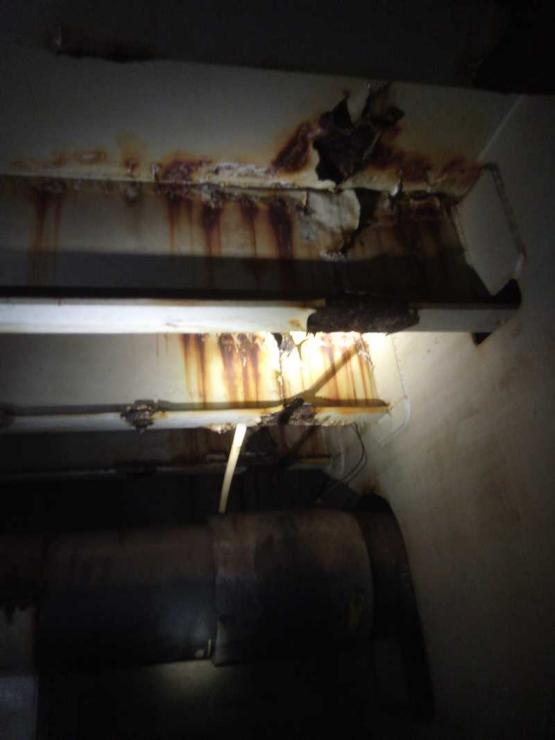corrosion: (265, 78, 444, 184), (301, 185, 469, 259), (209, 321, 265, 401), (308, 335, 380, 395), (15, 174, 70, 249), (172, 335, 213, 407), (264, 195, 303, 264), (189, 191, 228, 257), (152, 188, 189, 250), (151, 152, 216, 186), (94, 135, 147, 175), (274, 400, 329, 435), (271, 338, 297, 397), (239, 188, 261, 257), (118, 409, 165, 441)
